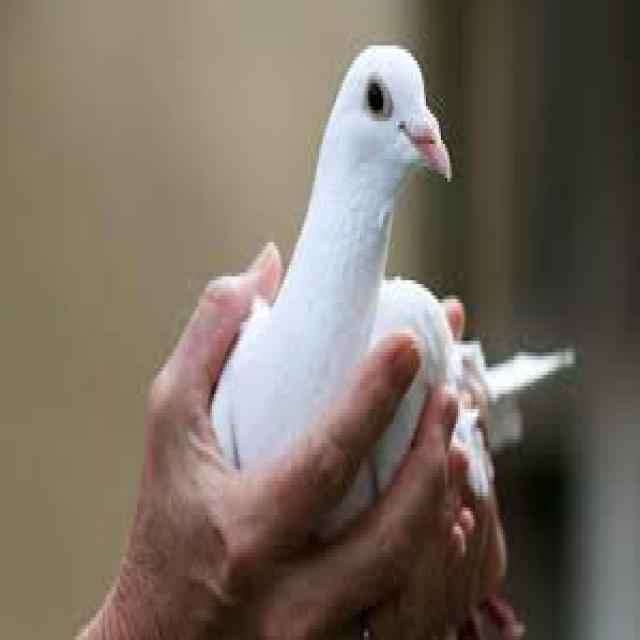Pigeon: (213, 40, 548, 509)
